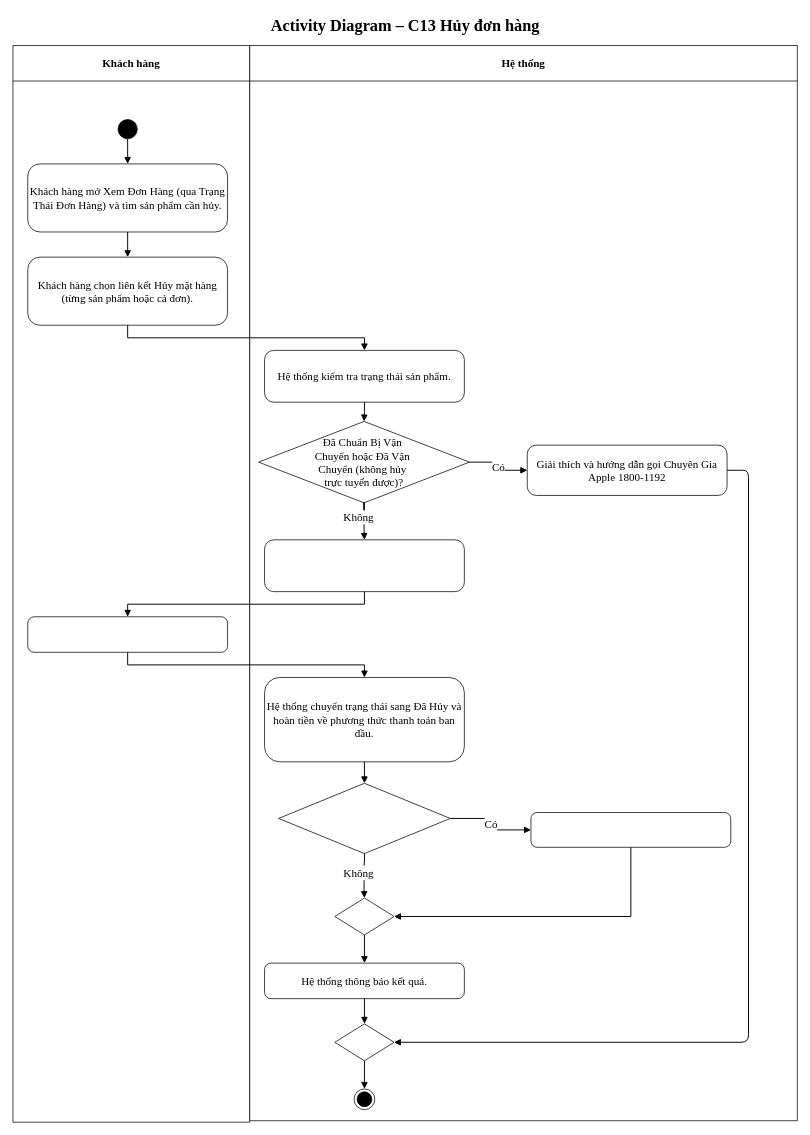
This 810x1135 diagram has some shape labels left out. Here are the shapes that lost their labels. From the top down, the centre of each, then its label:
the point at 364,565: Hệ thống hiển thị xác nhận hủy.
the point at 127,634: Khách hàng xác nhận.
the point at 364,818: Hủy thanh toán hoặc hoàn tiền thất bại?
the point at 630,829: Ghi nhận cần xử lý tiếp
